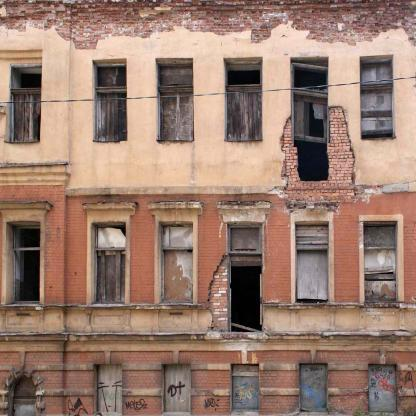Building Outline: (1, 1, 416, 416)
Cornice: (0, 364, 45, 416), (148, 201, 204, 215), (216, 201, 272, 215), (82, 202, 138, 215), (0, 200, 53, 213)
Facade: (1, 1, 416, 416)
Floor: (1, 1, 416, 181), (1, 187, 416, 332), (1, 339, 416, 416)
Floor Slab: (1, 332, 416, 339), (1, 181, 416, 187)
Window: (227, 221, 263, 333), (291, 56, 330, 143), (223, 56, 263, 140), (155, 58, 194, 141), (359, 55, 396, 139), (90, 221, 126, 304), (92, 59, 127, 143), (5, 221, 40, 305), (158, 221, 193, 305), (363, 221, 398, 303), (295, 220, 329, 303), (8, 63, 42, 142), (230, 364, 259, 416), (299, 364, 328, 416), (93, 364, 122, 415), (368, 365, 397, 416), (161, 365, 190, 415), (8, 375, 36, 416)
